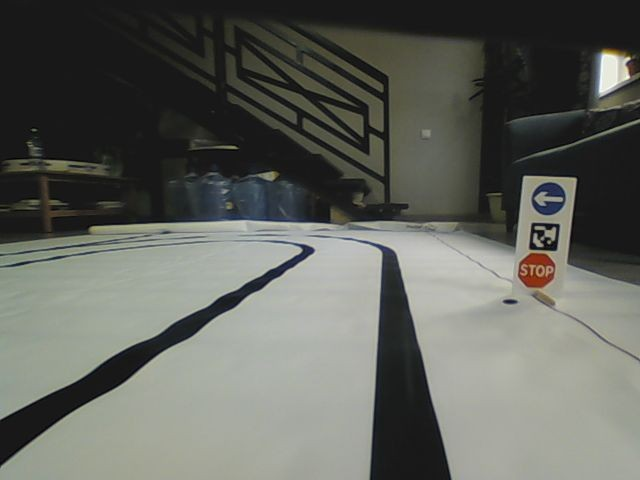Stop: (515, 251, 558, 293)
